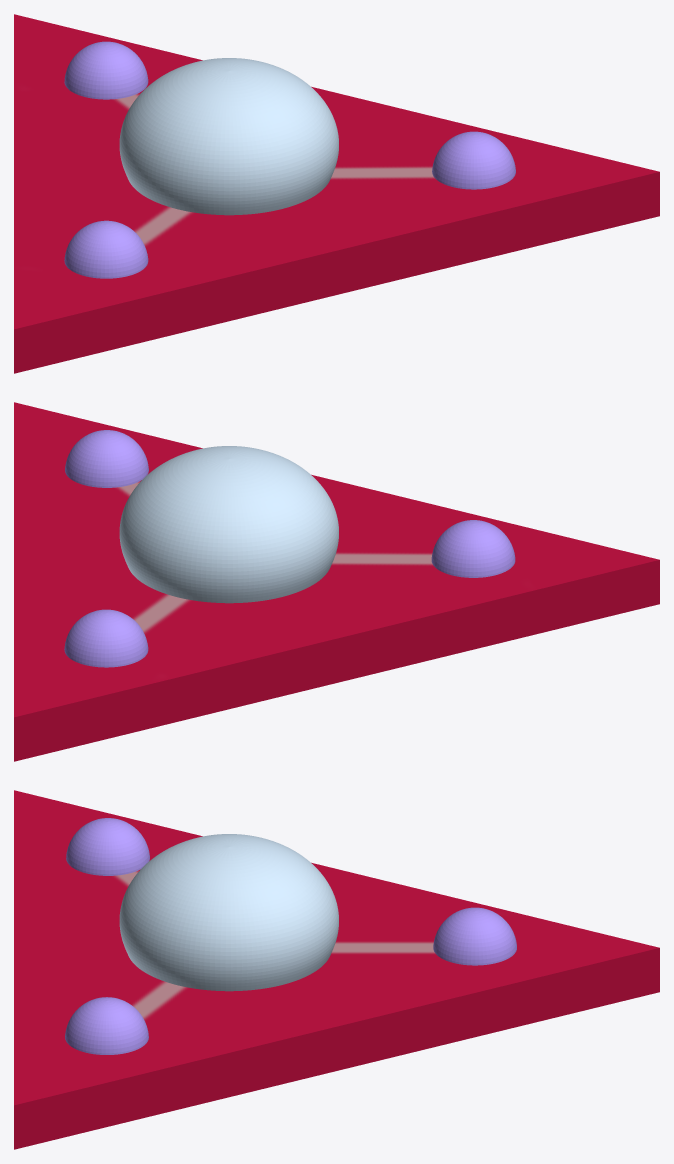
Rendered from ufo2Model.fbx.
3 renders of one model, top to bottom at view 1: azimuth 30°, elevation 25°; view 2: azimuth 150°, elevation 25°; view 3: azimuth 270°, elevation 25°, orthographic.
Parts seen in each view (by area): view 1: UfoBody, MainBump, SmallBump1, SmallBump3, SmallBump2; view 2: UfoBody, MainBump, SmallBump1, SmallBump3, SmallBump2; view 3: UfoBody, MainBump, SmallBump1, SmallBump2, SmallBump3.
Part boxes in pixels (left/top/right/bottom): UfoBody: left=14, top=14, right=659, bottom=373; MainBump: left=119, top=58, right=338, bottom=215; SmallBump1: left=64, top=41, right=148, bottom=99; SmallBump3: left=64, top=220, right=148, bottom=278; SmallBump2: left=432, top=131, right=515, bottom=189; UfoBody: left=14, top=402, right=659, bottom=761; MainBump: left=119, top=446, right=338, bottom=603; SmallBump1: left=64, top=609, right=148, bottom=667; SmallBump3: left=431, top=520, right=515, bottom=577; SmallBump2: left=65, top=430, right=148, bottom=487; UfoBody: left=14, top=790, right=659, bottom=1149; MainBump: left=119, top=834, right=338, bottom=991; SmallBump1: left=433, top=907, right=516, bottom=965; SmallBump2: left=65, top=997, right=148, bottom=1054; SmallBump3: left=66, top=818, right=149, bottom=875.
Size of the model in its own units: 671 by 144 by 581.
